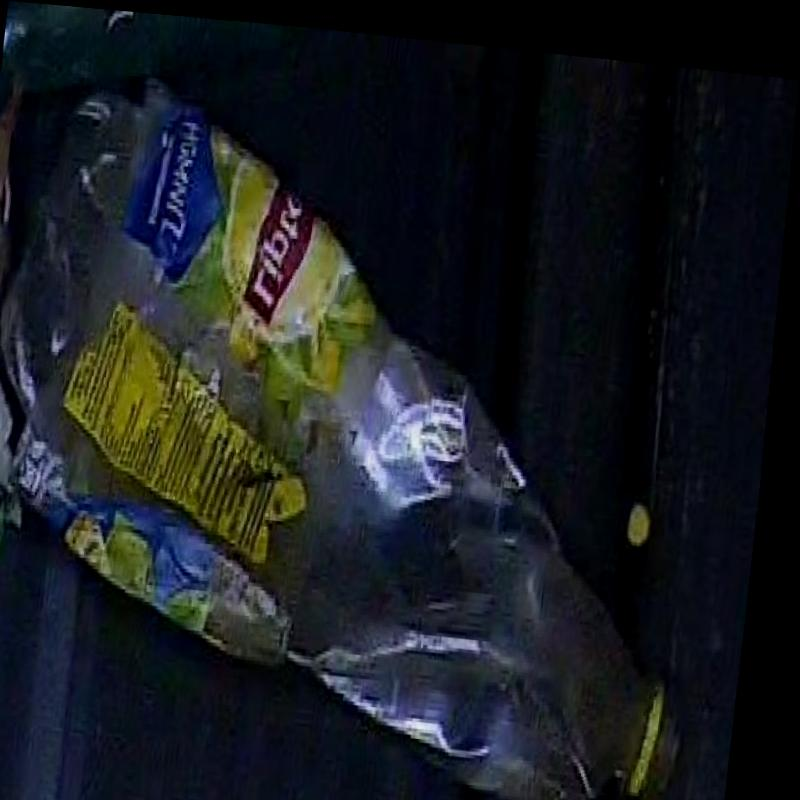botella: (0, 48, 755, 795)
